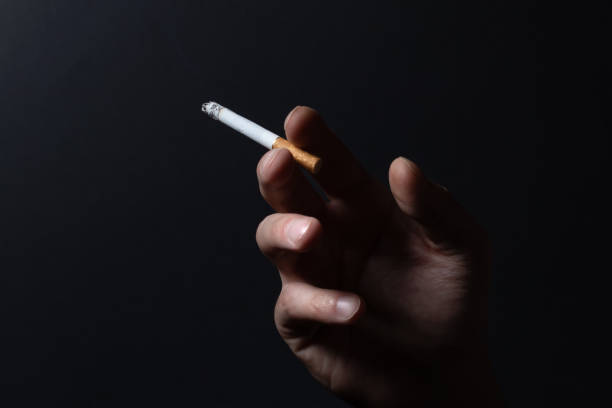cigarette: (201, 100, 324, 171)
